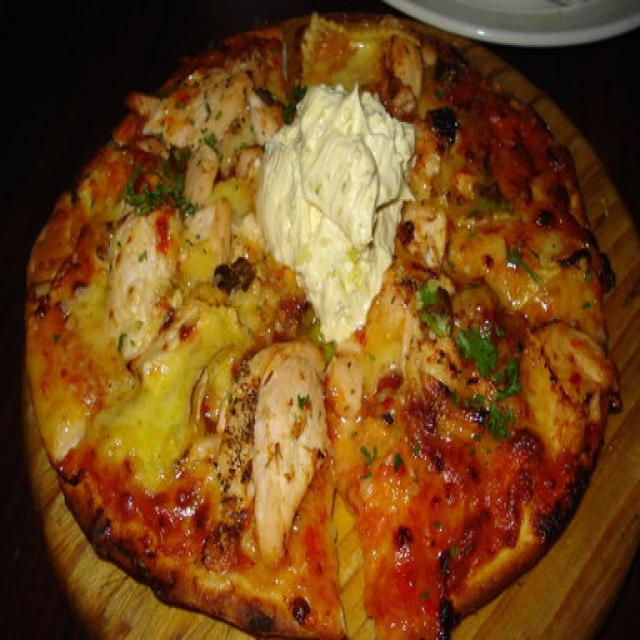Cheese: (266, 87, 414, 331)
Chicken: (256, 357, 326, 569), (522, 321, 604, 440), (303, 22, 432, 94), (162, 94, 258, 178), (114, 211, 175, 333), (335, 504, 372, 639), (216, 386, 250, 524)
Pizza: (28, 8, 610, 633)
Rucola: (131, 168, 193, 216), (454, 318, 498, 375), (479, 163, 509, 220), (485, 396, 514, 436), (425, 288, 448, 334), (500, 358, 522, 396)
